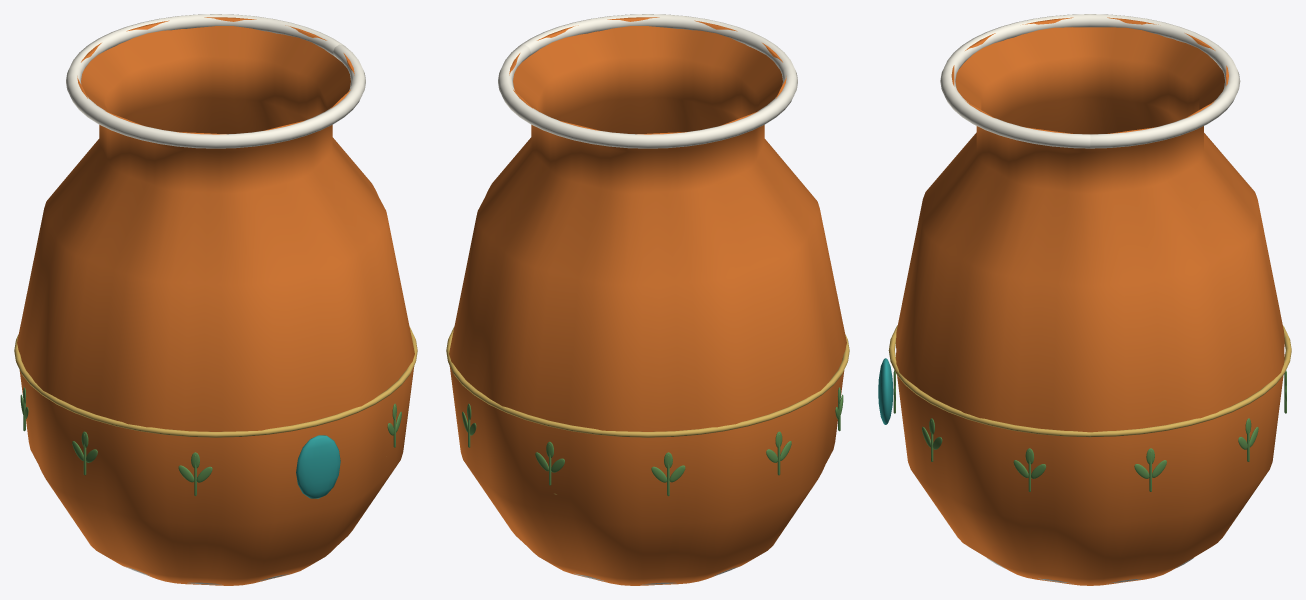
Rendered from stock_vase_sunflower.glb.
3 renders of one model, left to right at view 1: azimuth 30°, elevation 25°; view 2: azimuth 150°, elevation 25°; view 3: azimuth 270°, elevation 25°, orthographic.
Parts seen in each view (by area): view 1: Continuous_hollow_vessel, Rolled_open_lip, Gold_leaf_band_upper, Teal_medallion; view 2: Continuous_hollow_vessel, Rolled_open_lip, Gold_leaf_band_upper; view 3: Continuous_hollow_vessel, Rolled_open_lip, Gold_leaf_band_upper, Teal_medallion.
Boxes of the visible parts, x1=… form: Continuous_hollow_vessel: x1=17, y1=17, x2=414, y2=585; Rolled_open_lip: x1=66, y1=14, x2=365, y2=148; Gold_leaf_band_upper: x1=14, y1=327, x2=417, y2=437; Teal_medallion: x1=296, y1=435, x2=340, y2=498; Continuous_hollow_vessel: x1=449, y1=17, x2=846, y2=585; Rolled_open_lip: x1=498, y1=14, x2=797, y2=148; Gold_leaf_band_upper: x1=446, y1=327, x2=849, y2=437; Continuous_hollow_vessel: x1=896, y1=17, x2=1284, y2=585; Rolled_open_lip: x1=940, y1=14, x2=1240, y2=148; Gold_leaf_band_upper: x1=888, y1=325, x2=1291, y2=437; Teal_medallion: x1=878, y1=358, x2=893, y2=424.
Bounding box in the file's own units: 0.266 × 0.341 × 0.273.
